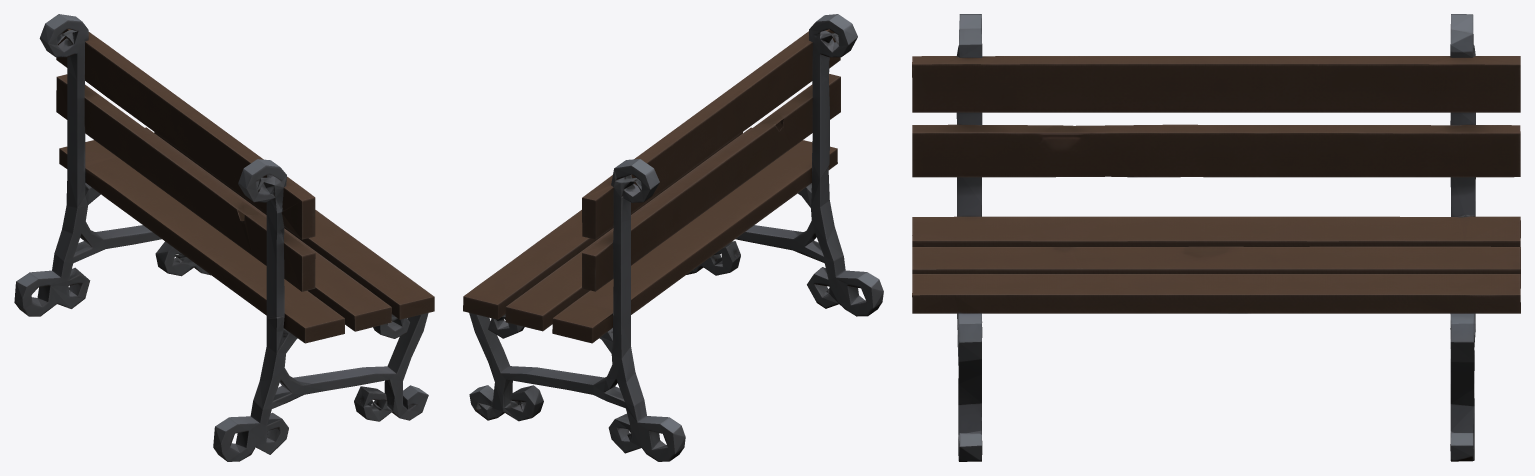
Rendered from banco_LowPoly_Textured_00002_.glb.
The picture shows the model from 3 angles, left to right: view 1: azimuth 30°, elevation 25°; view 2: azimuth 150°, elevation 25°; view 3: azimuth 270°, elevation 25°; orthographic projection. The views are drawn at different scales.
Parts seen in each view (by area): view 1: world; view 2: world; view 3: world.
Boxes of the visible parts, x1,y1,x2,y2 form: world: (14, 14, 434, 461); world: (463, 14, 883, 461); world: (912, 14, 1520, 461).
Size of the model in its own units: 0.4894 by 0.6522 by 1.
Materials: 1 (1 with a texture image).
